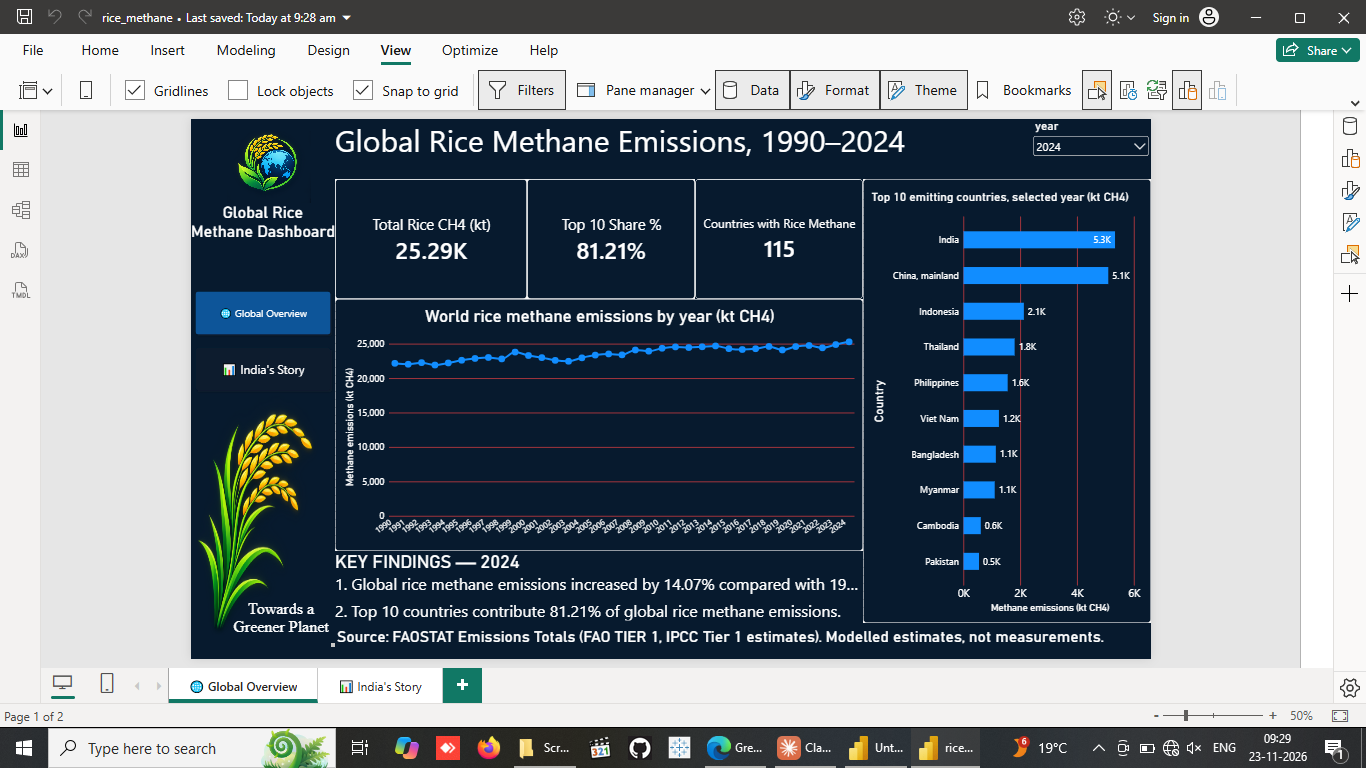

What the dashboard file says about the page in this screenshot:
{"tool":"powerbi","page":{"name":"🌐 Global Overview","canvas":[1920,1080],"ordinal":0},"visuals":[{"type":"textbox","box":[0,0,288,1080],"z":0},{"type":"slicer","fields":{"Values":["rice_emissions_clean.year"]},"box":[1680,0,240,120],"z":0},{"type":"textbox","title":"Global Rice Methane Dashboard","box":[0,168,288,120],"z":0},{"type":"textbox","title":"Global Rice Methane Emissions, 1990–2024","box":[288,0,1392,120],"z":1000},{"type":"image","box":[72,24,168,144],"z":1000},{"type":"pageNavigator","box":[0,336,288,216],"z":1000},{"type":"cardVisual","fields":{"Data":["rice_emissions_clean.Total Rice CH4 (kt)"]},"box":[288,120,384,240],"z":2000},{"type":"textbox","title":"Towards a Greener Planet","box":[72,960,216,96],"z":2000},{"type":"cardVisual","fields":{"Data":["rice_emissions_clean.Countries with Rice Methane"]},"box":[1008,120,336,240],"z":3000},{"type":"image","box":[0,528,288,504],"z":3000},{"type":"cardVisual","fields":{"Data":["rice_emissions_clean.Top 10 Share %"]},"box":[672,120,336,240],"z":4000},{"type":"lineChart","title":"World rice methane emissions by year (kt CH4)","fields":{"Category":["rice_emissions_clean.year"],"Y":["rice_emissions_clean.Total Rice CH4 (kt)"]},"box":[288,360,1056,504],"z":5000},{"type":"clusteredBarChart","title":"Top 10 emitting countries, selected year (kt CH4)","fields":{"Category":["rice_emissions_clean.area"],"Y":["rice_emissions_clean.Total Rice CH4 (kt)"]},"box":[1344,120,576,888],"z":6000},{"type":"textbox","title":"Source: FAOSTAT Emissions Totals (FAO TIER 1, IPCC Tier 1 estimates). Modelled estimates, not measurements.","box":[288,1008,1632,72],"z":7000},{"type":"textbox","title":"KEY FINDINGS — 2024 ","box":[288,864,1056,96],"z":7001},{"type":"textbox","title":"2. Top 10 countries contribute 81.21% of global rice methane emissions.","box":[288,960,1056,48],"z":7002}]}

Visuals, with their boxes on the page's 1920x1080 design canvas (x1, y1, x2, y2). These are canvas units, not pixel positions in the 1366x768 screenshot, which may show the page scaled, cropped or inside an application window:
textbox: (0, 0, 288, 1080)
slicer - rice_emissions_clean.year: (1680, 0, 1920, 120)
"Global Rice Methane Dashboard" textbox: (0, 168, 288, 288)
"Global Rice Methane Emissions, 1990–2024" textbox: (288, 0, 1680, 120)
image: (72, 24, 240, 168)
pageNavigator: (0, 336, 288, 552)
cardVisual - rice_emissions_clean.Total Rice CH4 (kt): (288, 120, 672, 360)
"Towards a Greener Planet" textbox: (72, 960, 288, 1056)
cardVisual - rice_emissions_clean.Countries with Rice Methane: (1008, 120, 1344, 360)
image: (0, 528, 288, 1032)
cardVisual - rice_emissions_clean.Top 10 Share %: (672, 120, 1008, 360)
"World rice methane emissions by year (kt CH4)" lineChart: (288, 360, 1344, 864)
"Top 10 emitting countries, selected year (kt CH4)" clusteredBarChart: (1344, 120, 1920, 1008)
"Source: FAOSTAT Emissions Totals (FAO TIER 1, IPCC Tier 1 estimates). Modelled estimates, not measurements." textbox: (288, 1008, 1920, 1080)
"KEY FINDINGS — 2024 " textbox: (288, 864, 1344, 960)
"2. Top 10 countries contribute 81.21% of global rice methane emissions." textbox: (288, 960, 1344, 1008)
